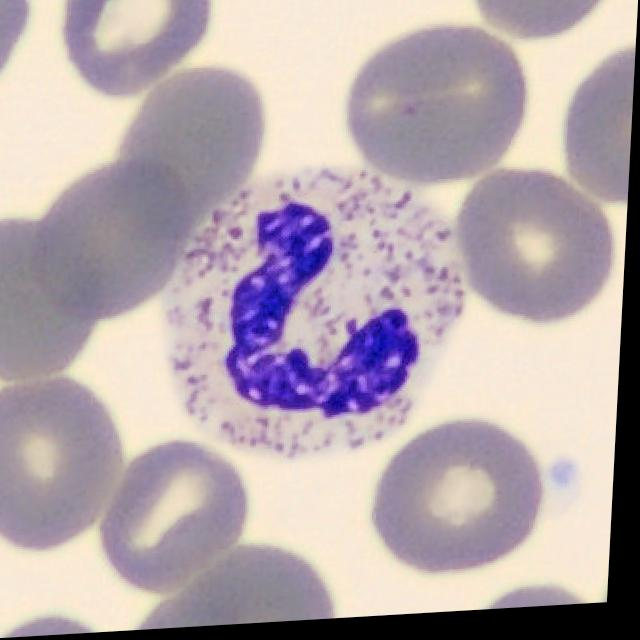Neutrofilo segmentado: (168, 169, 468, 465)
